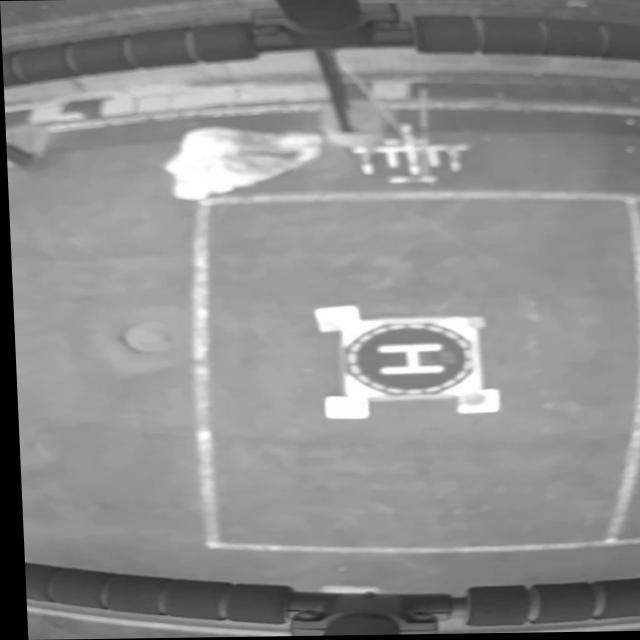Helipad: (374, 343, 443, 374)
